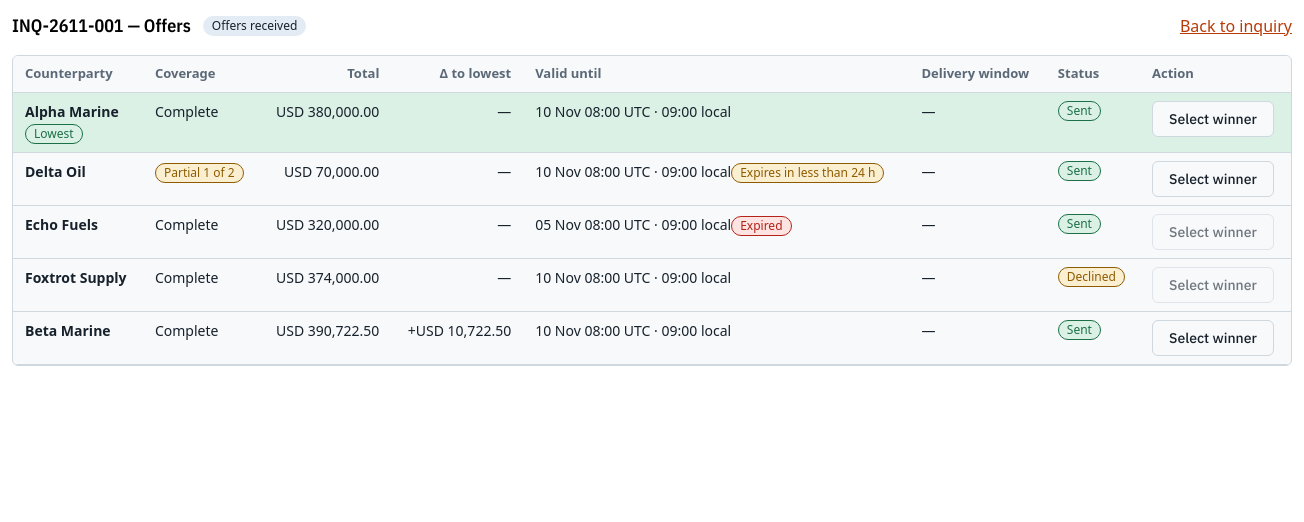
Test case: Comparison › [B4-R12] a line without a price says why it is not in the total
The image size is (1304, 522).
Click the row "Delta Oil" at (652, 178), box [13,152,1291,205]
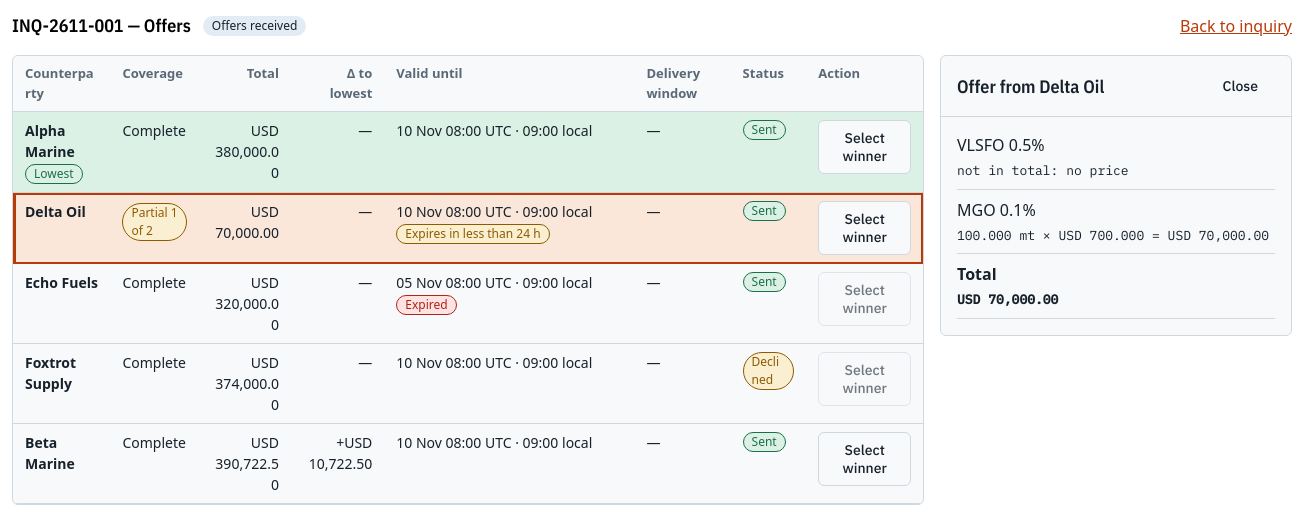
Expected: the text "not in total: no price" is shown, [957,162,1129,179]
